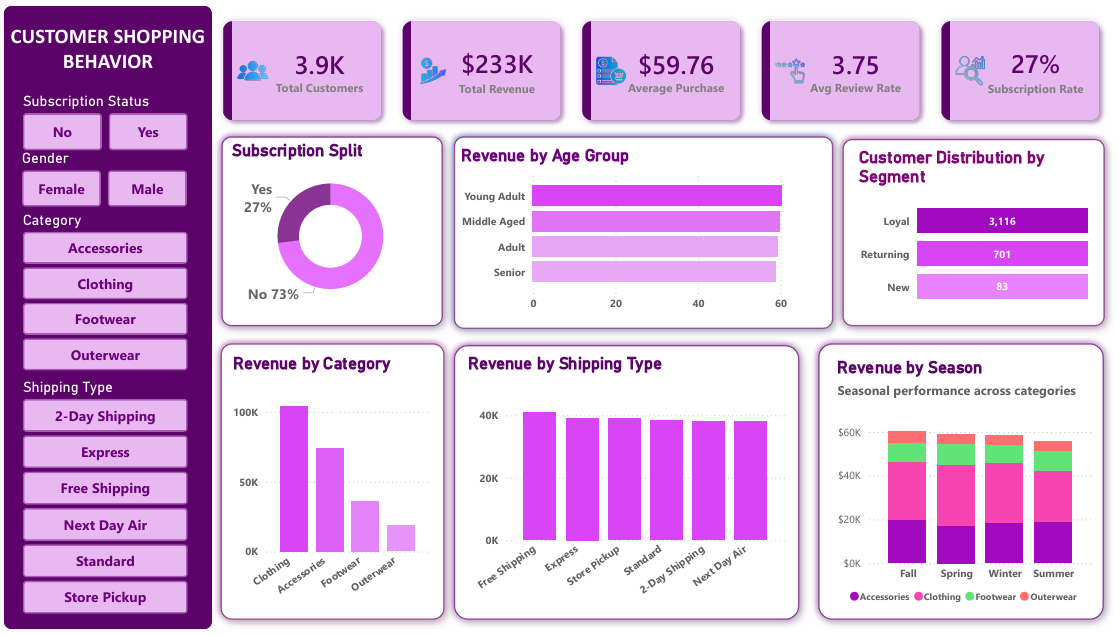

What the dashboard file says about the page in this screenshot:
{"tool":"powerbi","page":{"name":"Page 1","canvas":[1280,720],"ordinal":0},"visuals":[{"type":"shape","box":[0,0,1280.3,720.4],"z":0},{"type":"shape","box":[0,0,240,720],"z":1000},{"type":"textbox","box":[0,15,240,85],"z":2000},{"type":"cardVisual","fields":{"Data":["public customer.Number of Customers","public customer.Total Revenue","public customer.Average Purchase Amount","public customer.Average Review Rating","public customer.Subscription Rate"]},"box":[240,0,1040,150],"z":3000},{"type":"shape","box":[240.1,140,277.2,241.5],"z":4000},{"type":"donutChart","title":"Subscription Split","fields":{"Category":["public customer.subscription_status"],"Y":["CountNonNull(public customer.customer_id)"]},"box":[258,155.1,237.4,200.3],"z":5000},{"type":"shape","box":[507.7,381.5,419.9,338.9],"z":6000},{"type":"shape","box":[927.6,378.7,351.3,341.7],"z":7000},{"type":"columnChart","title":"Revenue by Season","fields":{"Category":["public customer.season"],"Y":["public customer.Total Revenue"],"Series":["public customer.category"]},"box":[956.4,406.2,303.3,293.7],"z":8000},{"type":"shape","box":[956.4,142.7,323.8,238.8],"z":9000},{"type":"shape","box":[507.7,140,459.7,244.3],"z":10000},{"type":"columnChart","title":"Revenue by Shipping Type","fields":{"Category":["public customer.shipping_type"],"Y":["public customer.Total Revenue"]},"box":[529.7,400.7,376,299.1],"z":11000},{"type":"clusteredBarChart","title":"Revenue by Age Group","fields":{"Category":["public customer.age_group"],"Y":["public customer.Average Purchase Amount"]},"box":[526.9,160.5,422.6,200.3],"z":12000},{"type":"shape","box":[238.8,378.7,279.9,341.7],"z":13000},{"type":"clusteredColumnChart","title":"Revenue by Category","fields":{"Category":["public customer.category"],"Y":["Sum(public customer.purchase_amount)"]},"box":[259,401,237,299],"z":14000},{"type":"hundredPercentStackedBarChart","title":"Customer Distribution by Segment","fields":{"Category":["public customer.Customer Segment"],"Y":["public customer.Number of Customers"]},"box":[981.1,163.3,273.1,197.6],"z":15000},{"type":"advancedSlicerVisual","fields":{"Values":["public customer.subscription_status"]},"box":[16.7,100,200,68],"z":16000},{"type":"advancedSlicerVisual","fields":{"Values":["public customer.gender"]},"box":[15.6,165.6,200,67],"z":17000},{"type":"advancedSlicerVisual","fields":{"Values":["public customer.category"]},"box":[16.7,236.7,200,193],"z":18000},{"type":"advancedSlicerVisual","fields":{"Values":["public customer.shipping_type"]},"box":[16.7,430,200,283],"z":19000}]}

Visuals, with their boxes in screenshot pixels (x1, y1, x2, y2), scaled from the page's 1280x720 canvas onto the 1120x637 screenshot:
shape: {"x1": 0, "y1": 0, "x2": 1119, "y2": 636}
shape: {"x1": 0, "y1": 0, "x2": 210, "y2": 636}
textbox: {"x1": 0, "y1": 13, "x2": 210, "y2": 88}
cardVisual - public customer.Number of Customers x public customer.Total Revenue: {"x1": 210, "y1": 0, "x2": 1119, "y2": 133}
shape: {"x1": 210, "y1": 124, "x2": 453, "y2": 338}
"Subscription Split" donutChart: {"x1": 226, "y1": 137, "x2": 433, "y2": 314}
shape: {"x1": 444, "y1": 338, "x2": 812, "y2": 636}
shape: {"x1": 812, "y1": 335, "x2": 1119, "y2": 636}
"Revenue by Season" columnChart: {"x1": 837, "y1": 359, "x2": 1102, "y2": 619}
shape: {"x1": 837, "y1": 126, "x2": 1119, "y2": 338}
shape: {"x1": 444, "y1": 124, "x2": 846, "y2": 340}
"Revenue by Shipping Type" columnChart: {"x1": 463, "y1": 355, "x2": 792, "y2": 619}
"Revenue by Age Group" clusteredBarChart: {"x1": 461, "y1": 142, "x2": 831, "y2": 319}
shape: {"x1": 209, "y1": 335, "x2": 454, "y2": 636}
"Revenue by Category" clusteredColumnChart: {"x1": 227, "y1": 355, "x2": 434, "y2": 619}
"Customer Distribution by Segment" hundredPercentStackedBarChart: {"x1": 858, "y1": 144, "x2": 1097, "y2": 319}
advancedSlicerVisual - public customer.subscription_status: {"x1": 15, "y1": 88, "x2": 190, "y2": 149}
advancedSlicerVisual - public customer.gender: {"x1": 14, "y1": 147, "x2": 189, "y2": 206}
advancedSlicerVisual - public customer.category: {"x1": 15, "y1": 209, "x2": 190, "y2": 380}
advancedSlicerVisual - public customer.shipping_type: {"x1": 15, "y1": 380, "x2": 190, "y2": 631}
